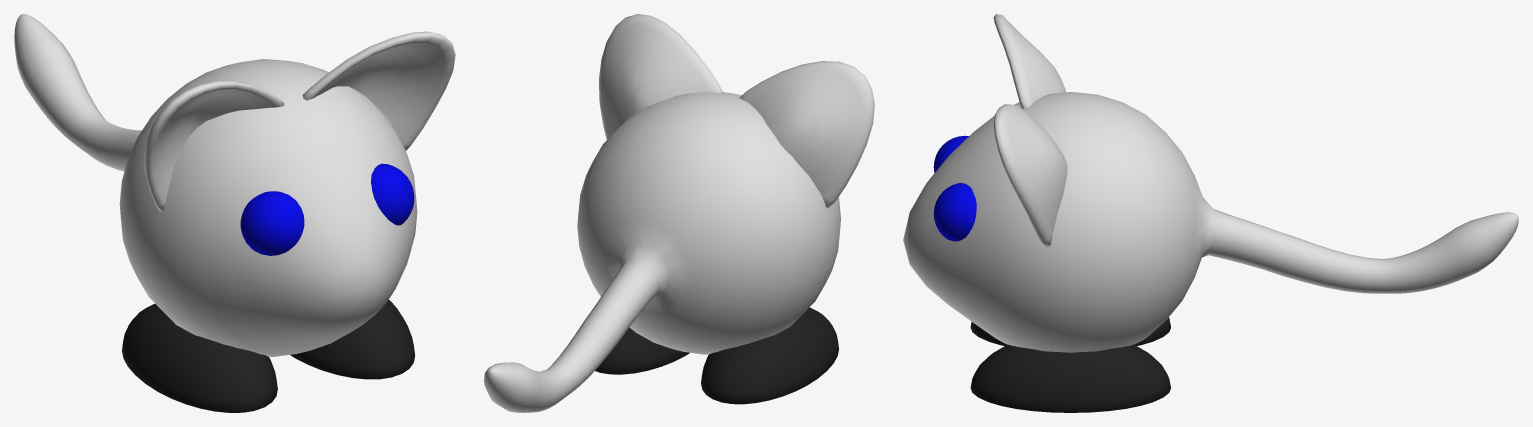
The model's file is ExampleFox.fbx.
3 views of the same model, side by side, from view 1: azimuth 30°, elevation 25°; view 2: azimuth 150°, elevation 25°; view 3: azimuth 270°, elevation 25° (orthographic). The views are drawn at different scales.
Visible parts, largest first — view 1: ExampleFox; view 2: ExampleFox; view 3: ExampleFox.
Boxes of the visible parts, x1,y1,x2,y2 form: ExampleFox: (14,14,455,412); ExampleFox: (484,14,874,412); ExampleFox: (903,14,1518,412).
Bounding box in the file's own units: 236 × 240 × 456.
